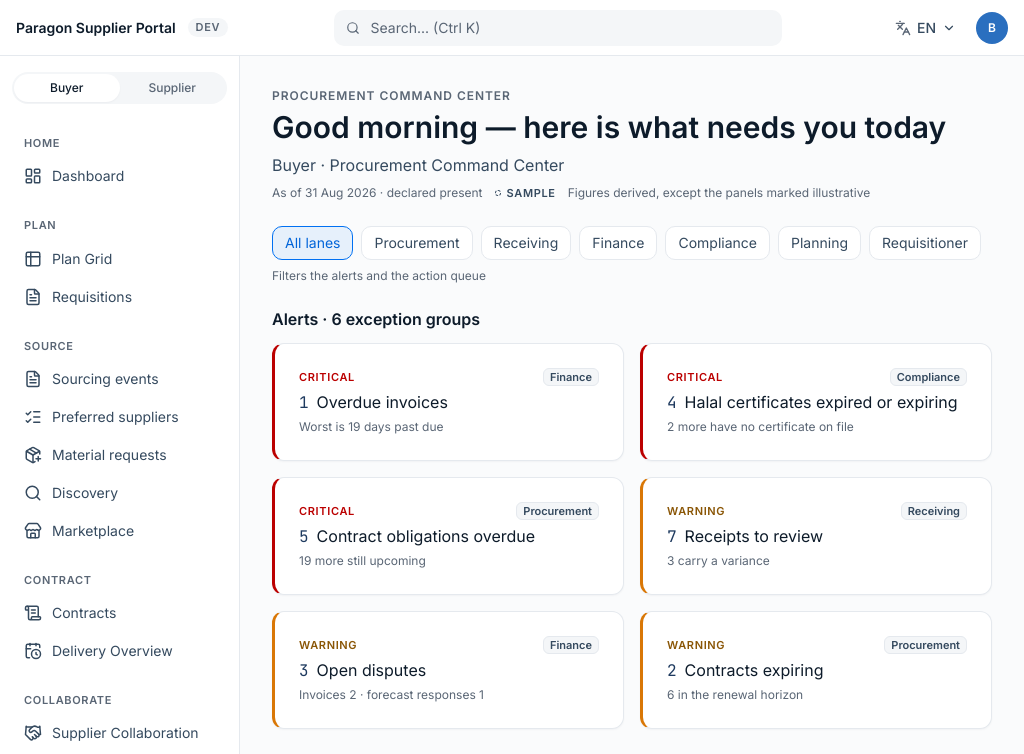
Test case: ADM-1 · item 8 — the lane chips really filter › a lane with no alert group says so rather than showing another lane's
Check: the heading "Good morning — here is what needs you today" is shown, box x1=272 y1=109 x2=946 y2=145
Click the button with test id "lane-chip-requisitioner" at [925, 243], box x1=869 y1=226 x2=981 y2=260
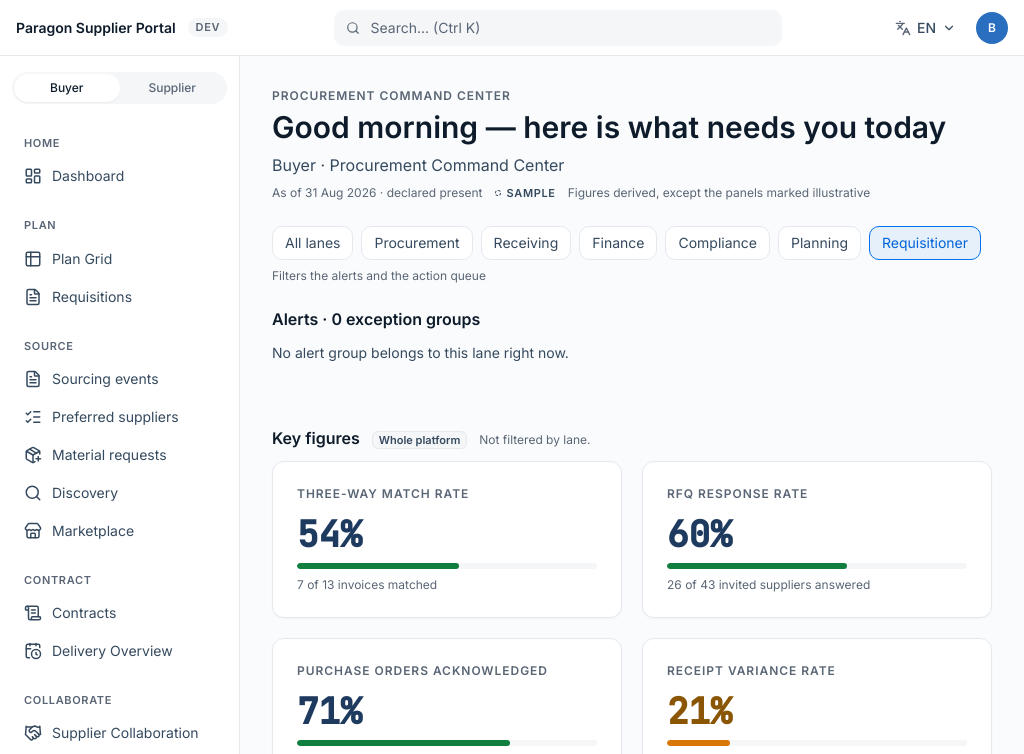
Check: the text with test id "alerts-none-for-lane" reads "No alert group belongs to this lane right now.", box x1=272 y1=344 x2=569 y2=361
